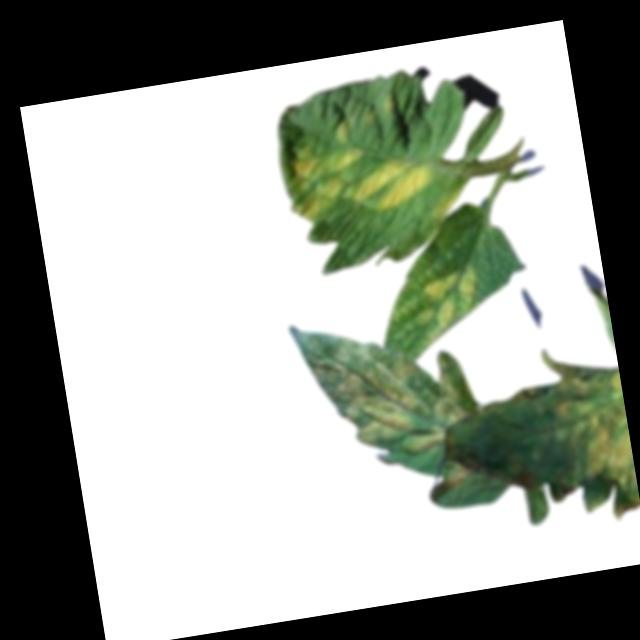Leaf_Mold: (332, 334, 477, 463), (544, 365, 640, 519), (280, 134, 372, 226), (409, 265, 487, 344), (348, 153, 444, 215), (444, 462, 474, 489), (380, 93, 402, 119), (334, 117, 352, 143)
